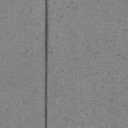surface scratch: (44, 0, 48, 128)
